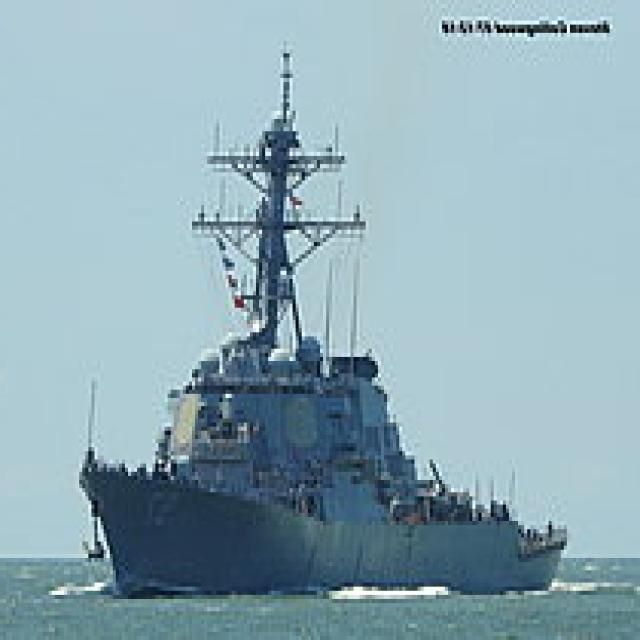Warship: (82, 41, 573, 591)
